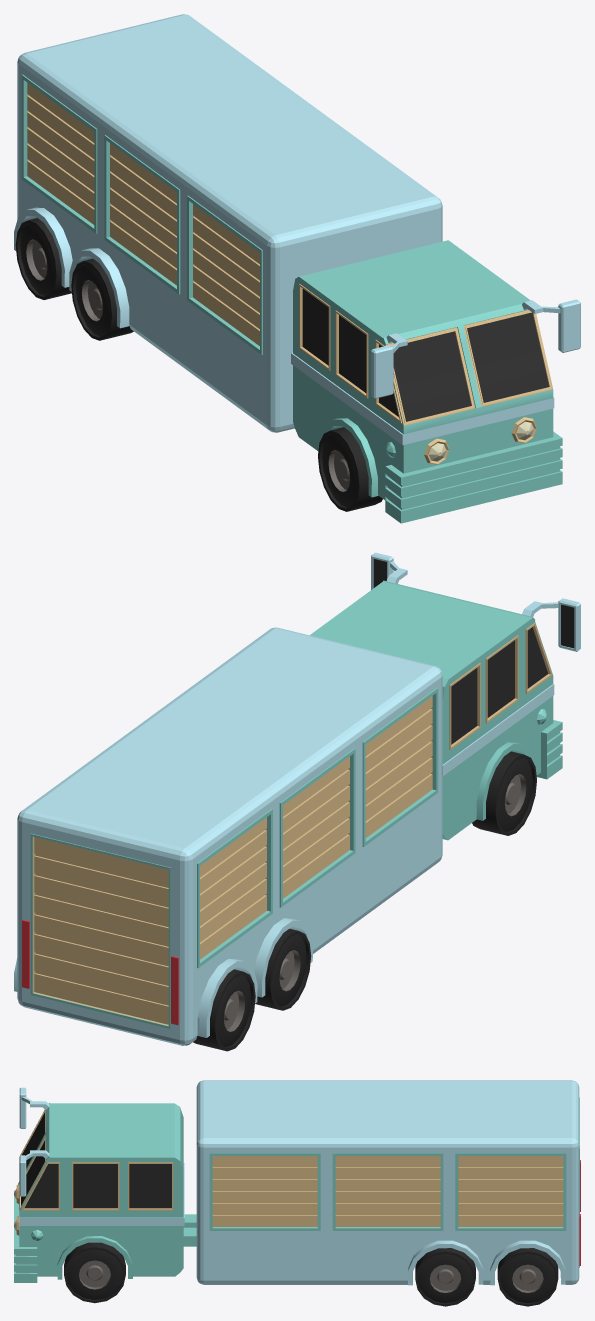
Rendered from civil-truck-A.fbx.
3 views of the same model, one above another, from view 1: azimuth 30°, elevation 25°; view 2: azimuth 150°, elevation 25°; view 3: azimuth 270°, elevation 25° (orthographic). The views are drawn at different scales.
Parts seen in each view (by area): view 1: civil-truck-A, civil-truck-A-front-wheels, civil-truck-A-rear-wheels-A, civil-truck-A-rear-wheels-B; view 2: civil-truck-A, civil-truck-A-front-wheels, civil-truck-A-rear-wheels-B, civil-truck-A-rear-wheels-A; view 3: civil-truck-A, civil-truck-A-front-wheels, civil-truck-A-rear-wheels-B, civil-truck-A-rear-wheels-A.
Boxes of the visible parts, <box> form: civil-truck-A: <box>14,14,580,523</box>; civil-truck-A-front-wheels: <box>318,427,382,511</box>; civil-truck-A-rear-wheels-A: <box>71,259,133,340</box>; civil-truck-A-rear-wheels-B: <box>15,218,71,299</box>; civil-truck-A: <box>14,552,580,1045</box>; civil-truck-A-front-wheels: <box>472,751,536,835</box>; civil-truck-A-rear-wheels-B: <box>193,969,255,1051</box>; civil-truck-A-rear-wheels-A: <box>255,928,311,1010</box>; civil-truck-A: <box>14,1080,580,1285</box>; civil-truck-A-front-wheels: <box>64,1242,125,1303</box>; civil-truck-A-rear-wheels-B: <box>497,1248,558,1306</box>; civil-truck-A-rear-wheels-A: <box>415,1248,475,1306</box>.
Bounding box in the file's own units: 2.76 × 2.77 × 8.82.
